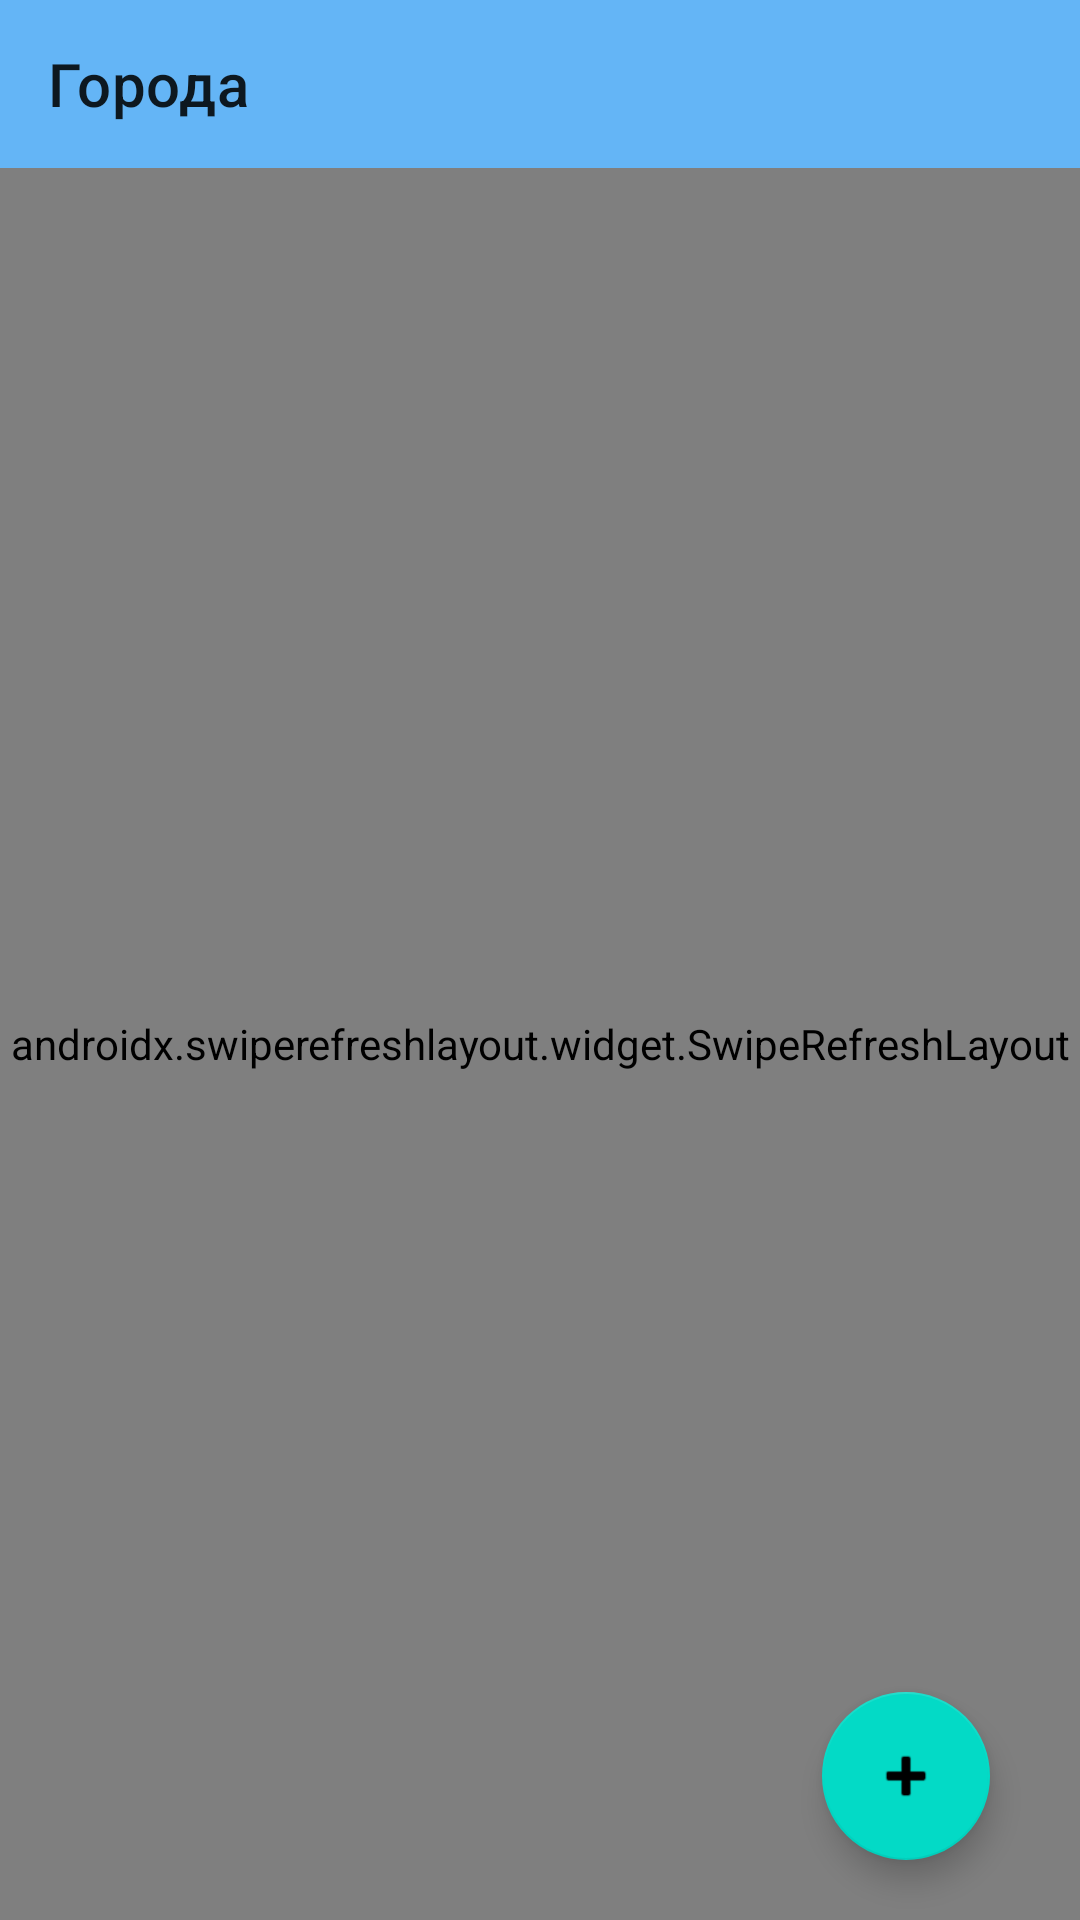

Icons on this 1080w x 1920h Android screen, each with the point to tap as (x,y):
add: (906,1776)
